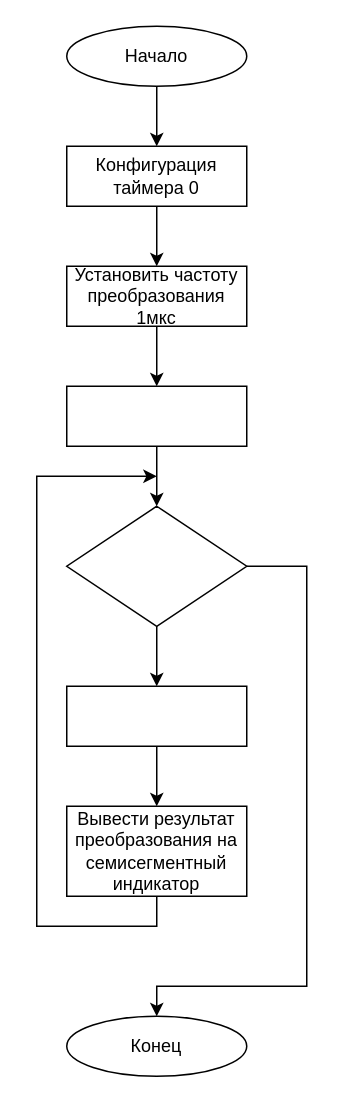
The diagram is 345 pixels wide and 1103 high, and some of its shapes have lost their labels. The centre of each missing label's shape, as x and y in pixels:
Включить таймер 0: the point at 156,415
Пока не конец программы: the point at 156,565
Провести АЦП: the point at 156,715
